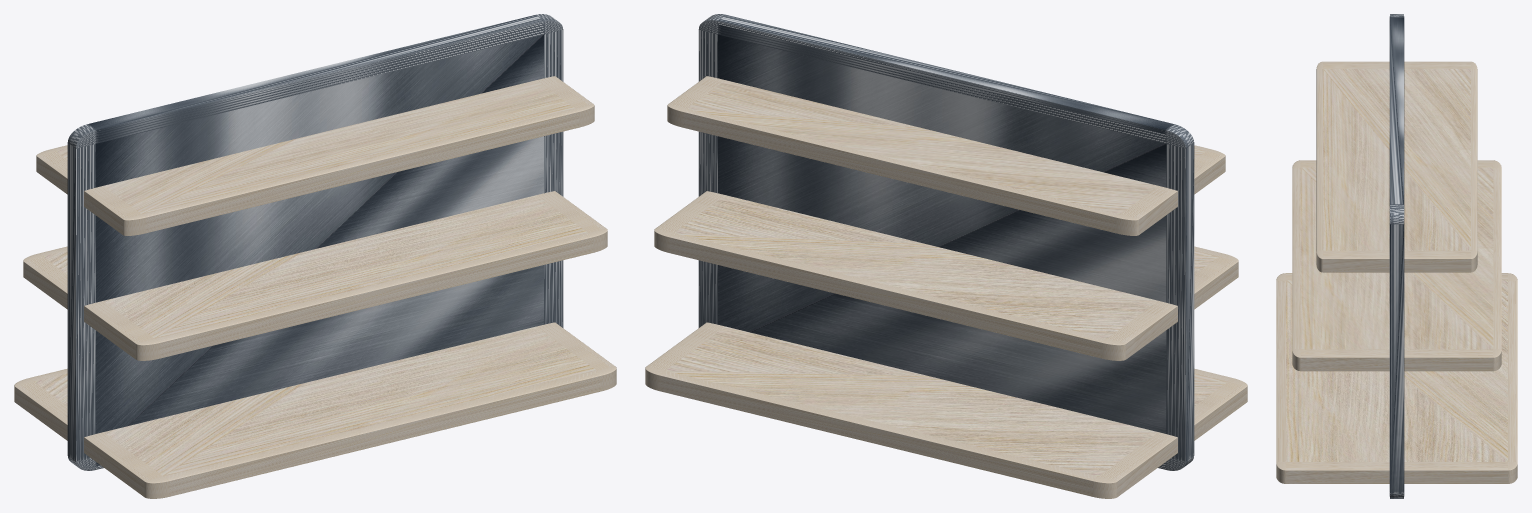
Rendered from Stand.glb.
3 views of the same model, side by side, from view 1: azimuth 30°, elevation 25°; view 2: azimuth 150°, elevation 25°; view 3: azimuth 270°, elevation 25° (orthographic). The views are drawn at different scales.
Visible parts, largest first — view 1: Box, Box 1, Box 2, Box 3; view 2: Box, Box 1, Box 2, Box 3; view 3: Box 3, Box 1, Box 2, Box.
Boxes of the visible parts, x1=… form: Box: x1=67, y1=14, x2=563, y2=470; Box 1: x1=14, y1=322, x2=616, y2=498; Box 2: x1=23, y1=191, x2=607, y2=360; Box 3: x1=36, y1=76, x2=594, y2=235; Box: x1=698, y1=14, x2=1194, y2=470; Box 1: x1=645, y1=322, x2=1247, y2=498; Box 2: x1=654, y1=191, x2=1238, y2=360; Box 3: x1=667, y1=76, x2=1225, y2=235; Box 3: x1=1316, y1=61, x2=1477, y2=272; Box 1: x1=1276, y1=273, x2=1517, y2=483; Box 2: x1=1292, y1=160, x2=1501, y2=371; Box: x1=1389, y1=14, x2=1404, y2=498.
Size of the model in its own units: 3 by 2 by 1.5.
4 materials, 4 textured.
